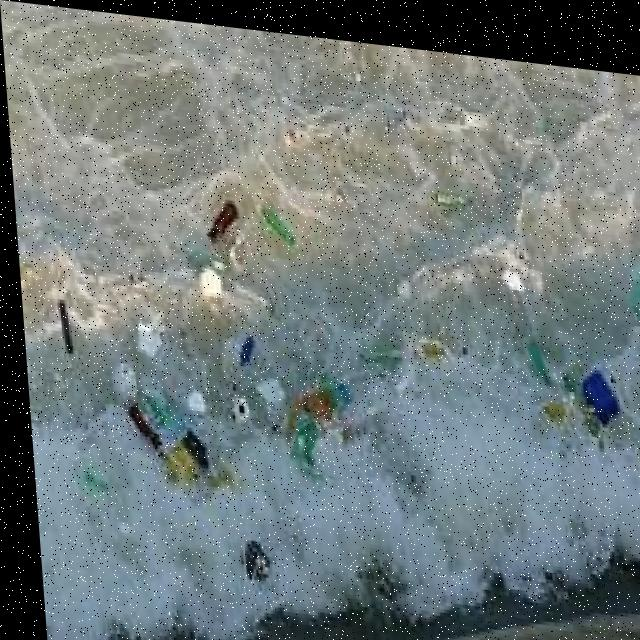plasticbottle: (287, 344, 367, 473), (281, 411, 349, 483), (252, 183, 308, 255), (207, 318, 266, 381), (190, 186, 248, 247), (342, 321, 402, 377), (130, 368, 180, 434), (59, 458, 117, 509), (229, 273, 282, 327), (424, 168, 482, 214), (519, 320, 557, 387), (174, 225, 228, 271), (607, 249, 640, 313)
plasticcover: (114, 290, 175, 369), (487, 245, 549, 301), (249, 361, 291, 423)
